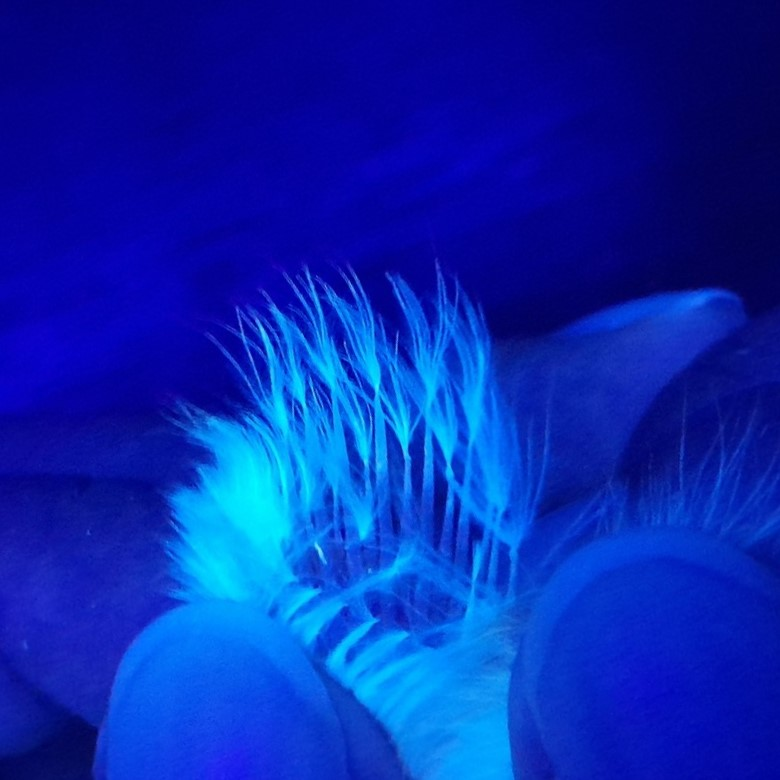male: (246, 371, 526, 646)
